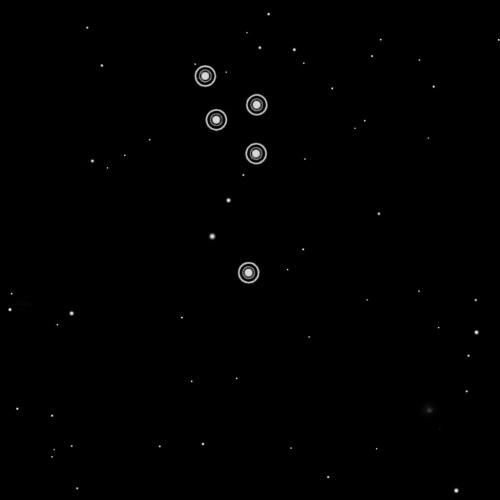delphinus: (184, 56, 274, 291)
